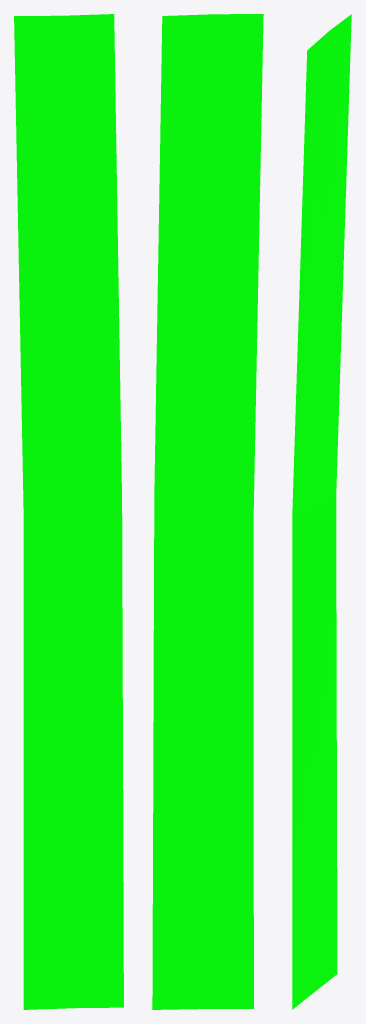
The model's file is ButtonsTop_MouseEmissiveGreen_0.dae.
The picture shows the model from 3 angles, left to right: view 1: azimuth 30°, elevation 25°; view 2: azimuth 210°, elevation 25°; view 3: azimuth 270°, elevation 25°; orthographic projection. The views are drawn at different scales.
Visible parts, largest first — view 1: ButtonsTop_MouseEmissiveGreen_0; view 2: ButtonsTop_MouseEmissiveGreen_0; view 3: ButtonsTop_MouseEmissiveGreen_0.
Part boxes in pixels (box(x1,y1,x2,y2)): ButtonsTop_MouseEmissiveGreen_0: box(14, 14, 123, 1009); ButtonsTop_MouseEmissiveGreen_0: box(152, 14, 263, 1009); ButtonsTop_MouseEmissiveGreen_0: box(292, 14, 351, 1009).
Bounding box in the file's own units: 0.000428 × 0.0051 × 0.000287.
